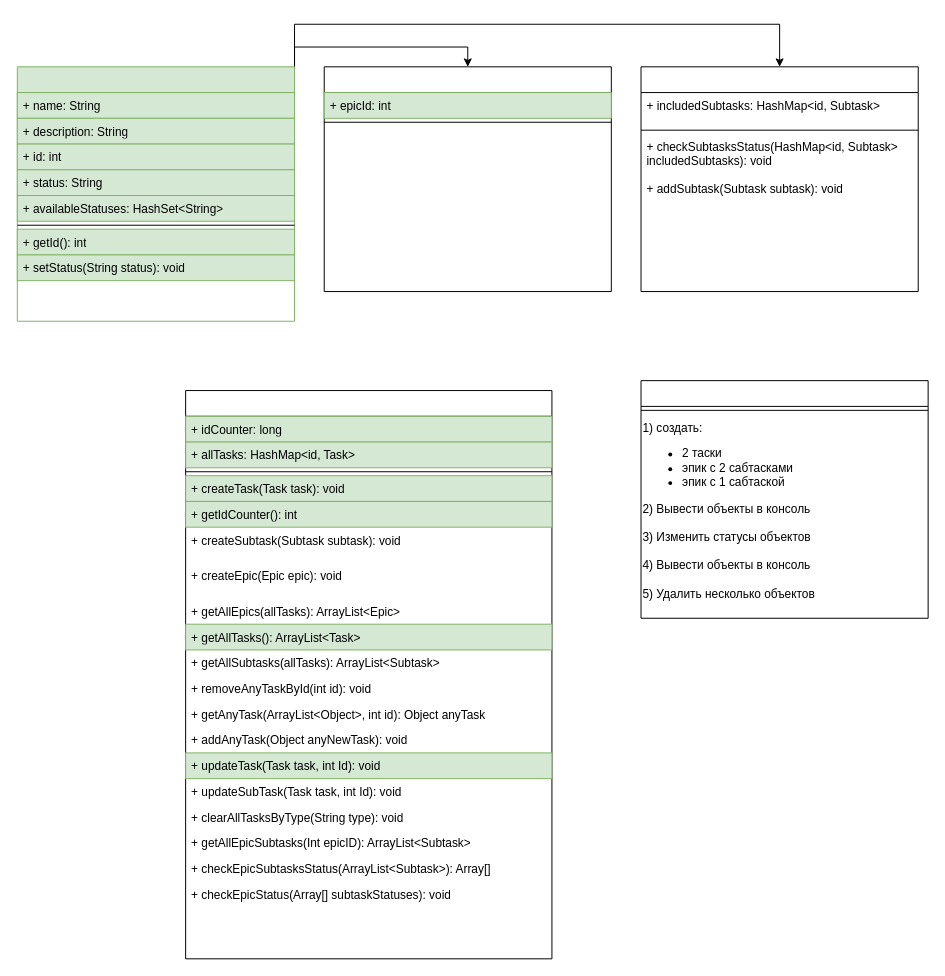
Image size: 945x976. Some labels were removed from this diagram. Here are the shapes that lost their labels. From the top down, the box of each, then its label:
(16, 66, 295, 321): Task
(323, 66, 611, 292): Subtask
(640, 66, 918, 292): Epic
(640, 380, 928, 618): Main (debug)
(185, 390, 552, 959): TaskManager
